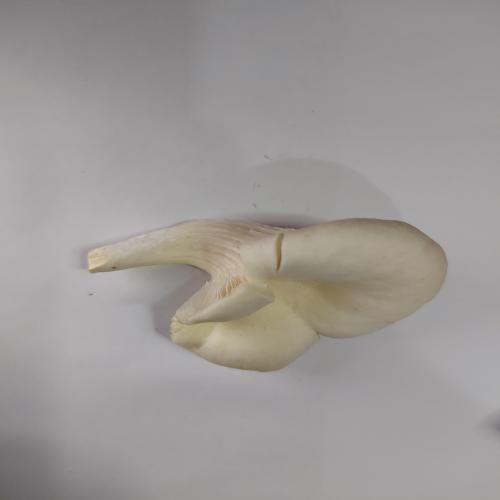Oyster Mushroom: (86, 216, 449, 373)
